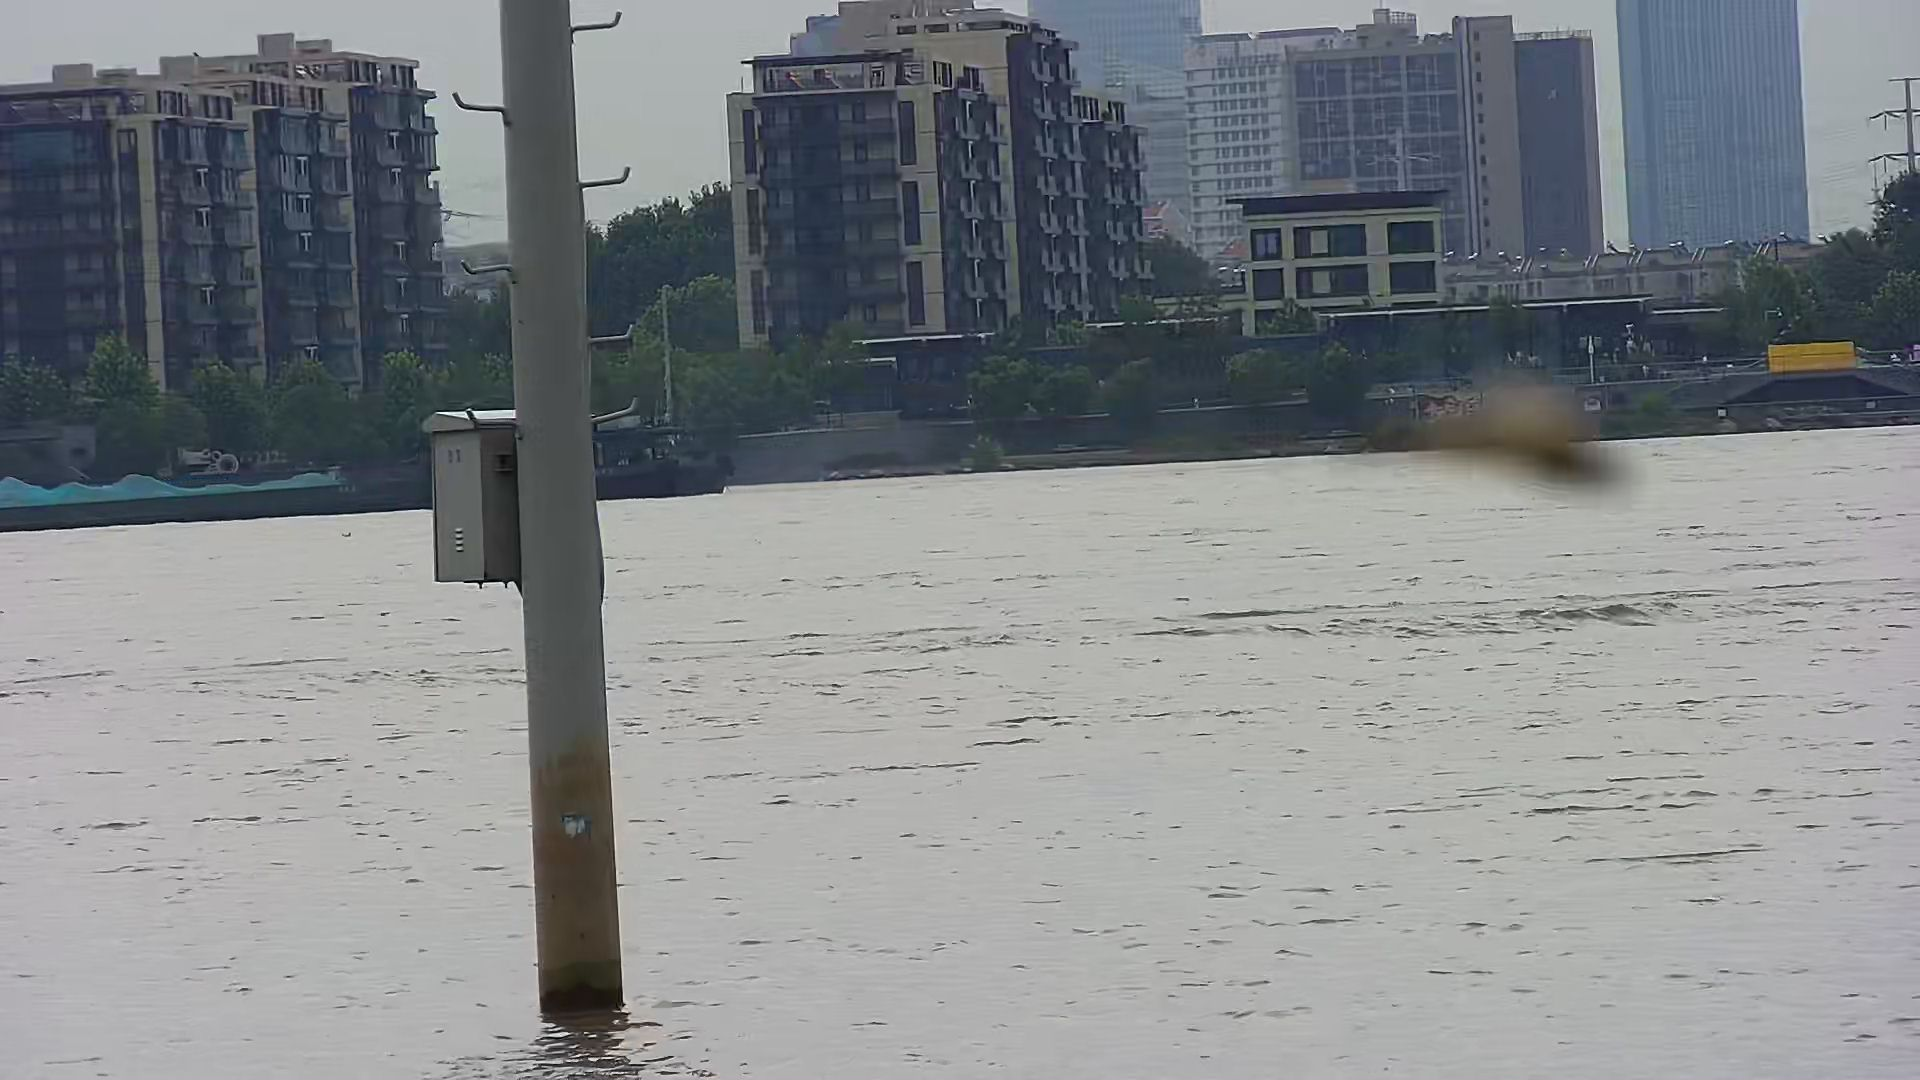mast: (419, 1, 634, 1031)
